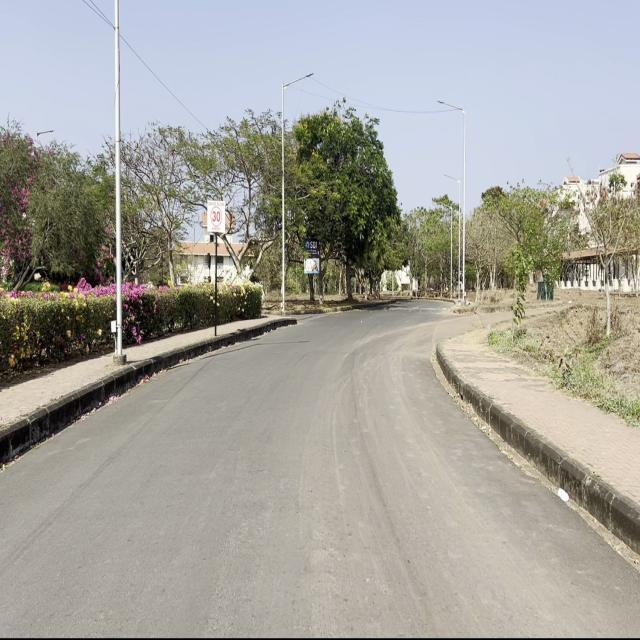Road: (3, 304, 637, 633)
